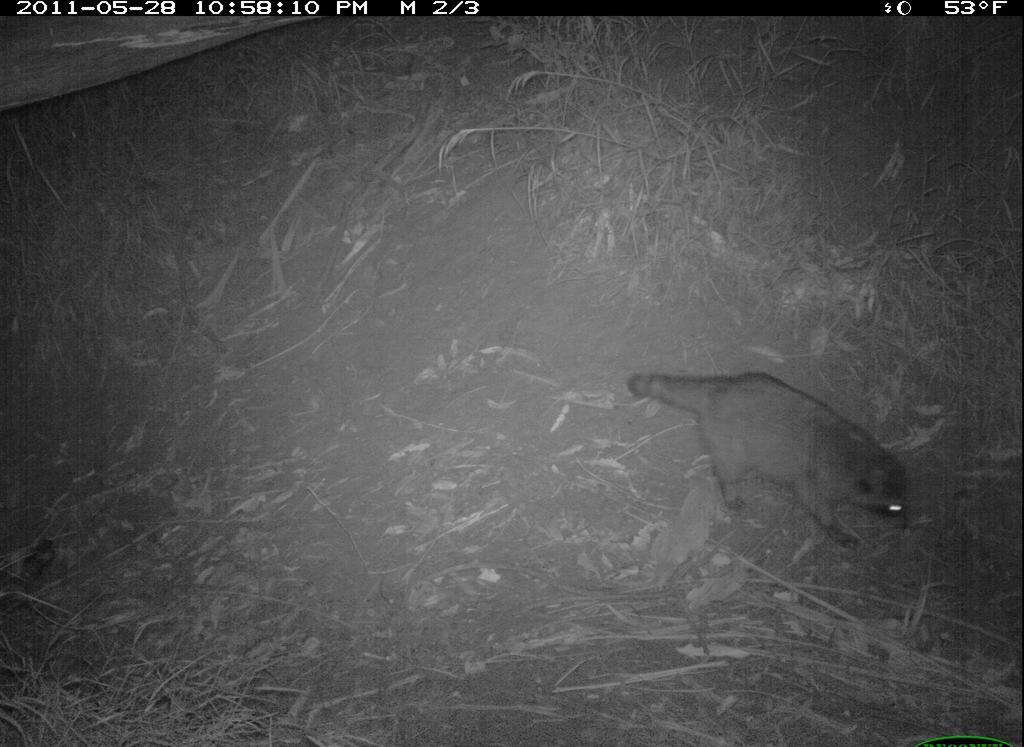raccoon: (615, 358, 917, 555)
